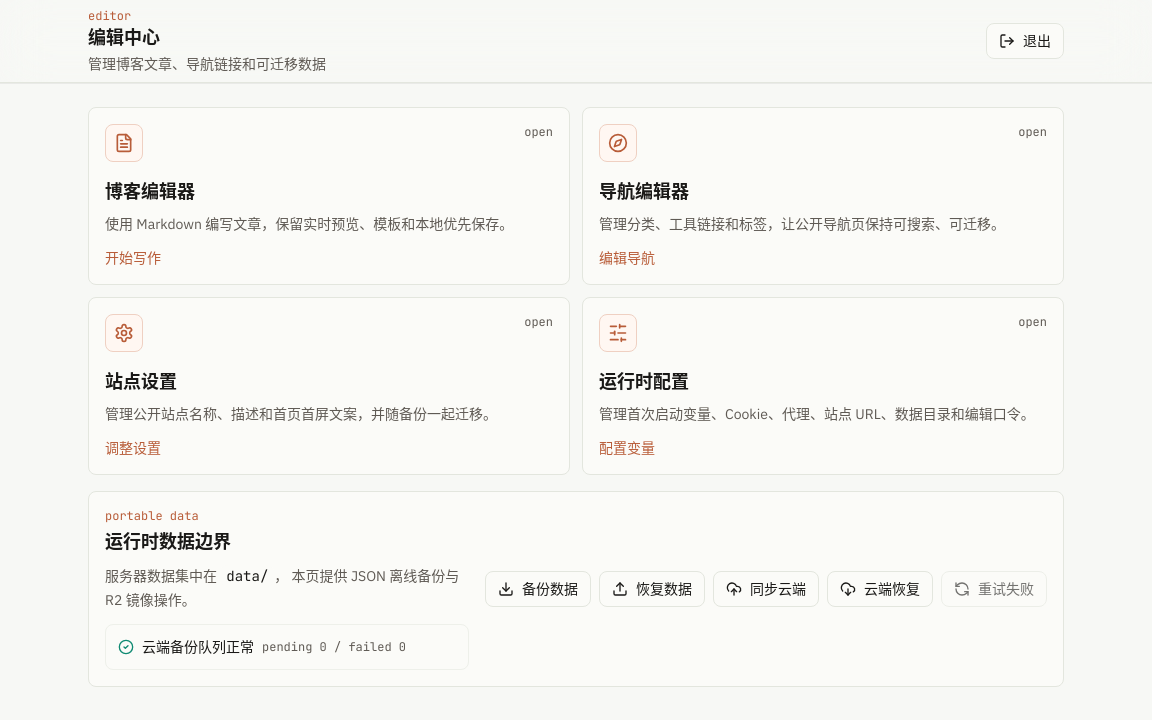
Test case: EditorHomePage › shows the backend sync failure message from the resource endpoint
The width and height of the screenshot is (1152, 720).
Click the button "同步云端" at (766, 589), box top-left (713, 571), bottom-right (819, 607)
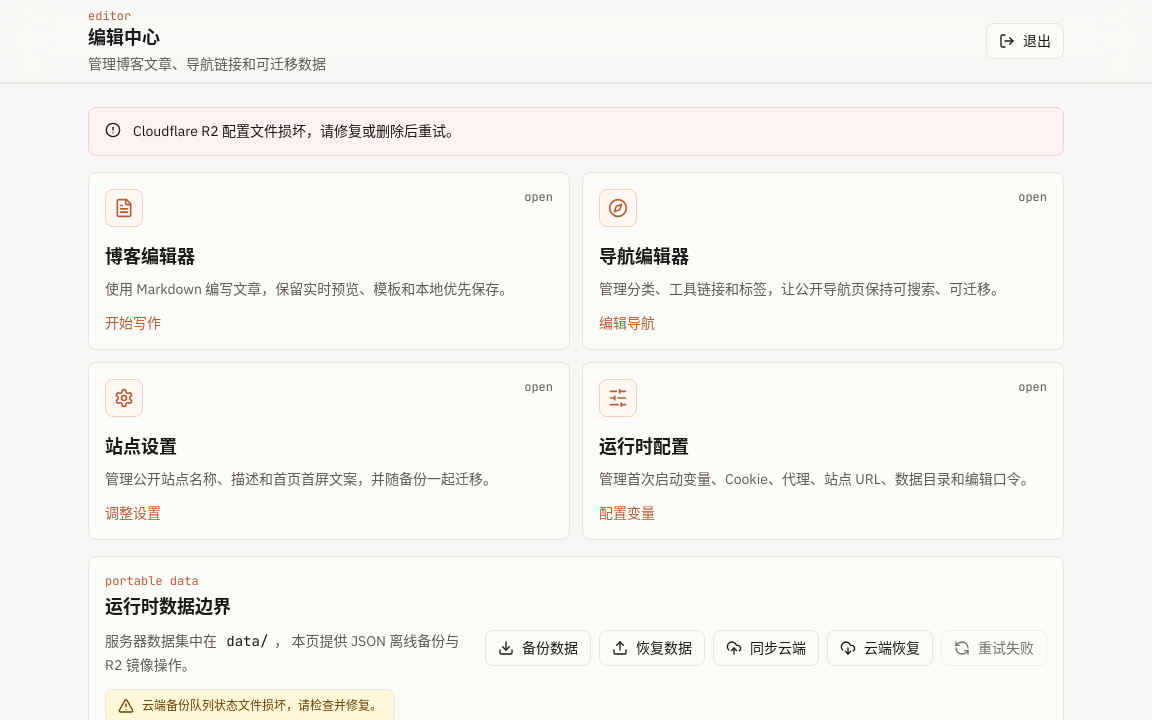
Expected: the text "Cloudflare R2 配置文件损坏，请修复或删除后重试。" is shown, top-left (133, 120), bottom-right (460, 143)
